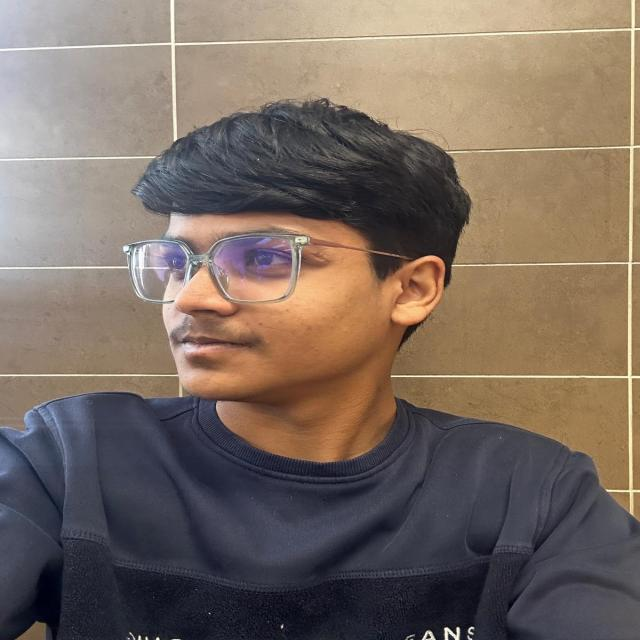nocap: (116, 86, 501, 252)
